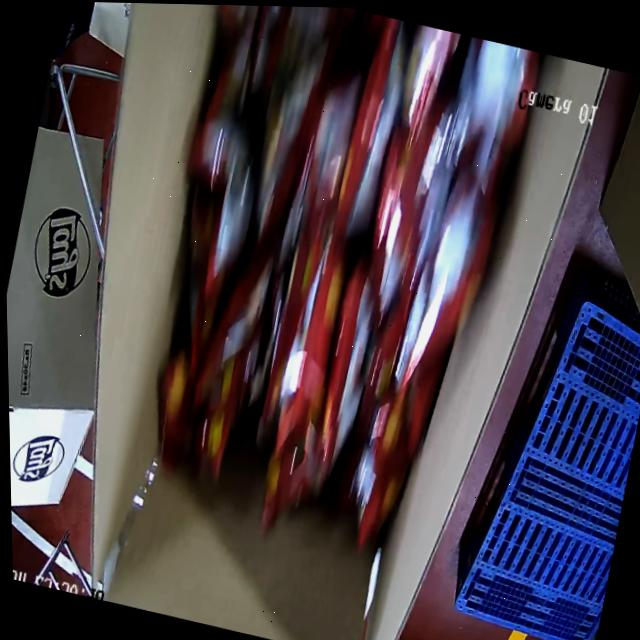MASALA: (132, 3, 537, 545)
